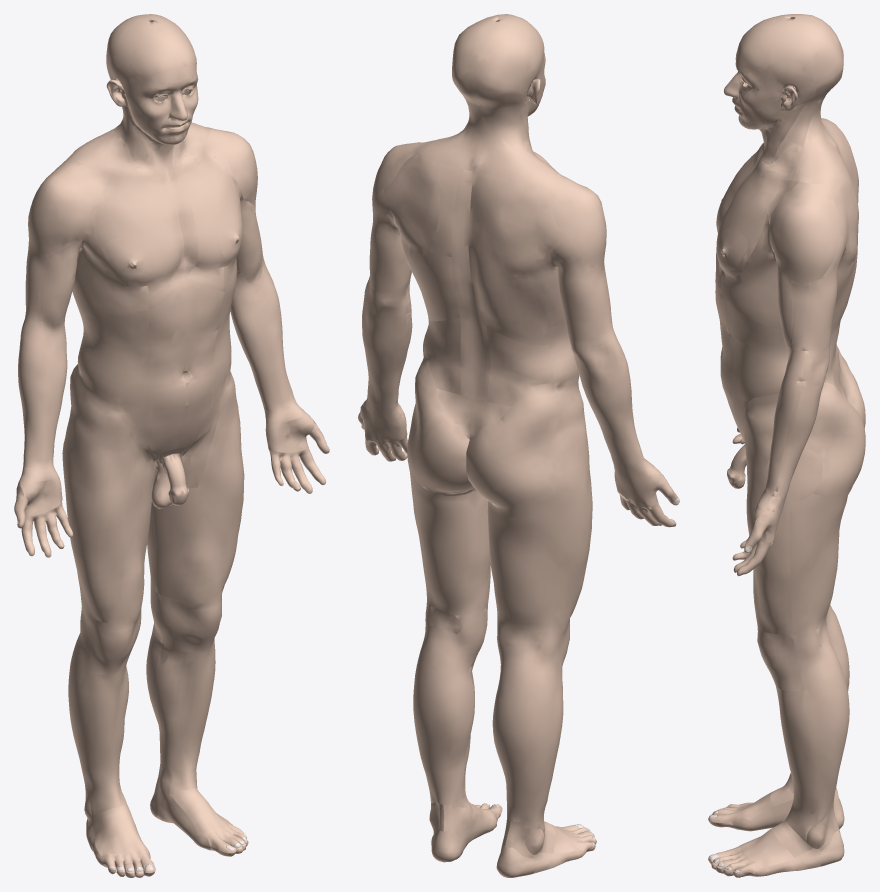
Rendered from peau.glb.
3 views of the same model, side by side, from view 1: azimuth 30°, elevation 25°; view 2: azimuth 150°, elevation 25°; view 3: azimuth 270°, elevation 25° (orthographic).
Parts seen in each view (by area): view 1: Peau; view 2: Peau; view 3: Peau.
Boxes of the visible parts, box(x1,y1,x2,y2) form: Peau: box(14, 14, 329, 877); Peau: box(358, 14, 679, 877); Peau: box(708, 14, 865, 877).
Bounding box in the file's own units: 0.68 × 1.71 × 0.2939.
